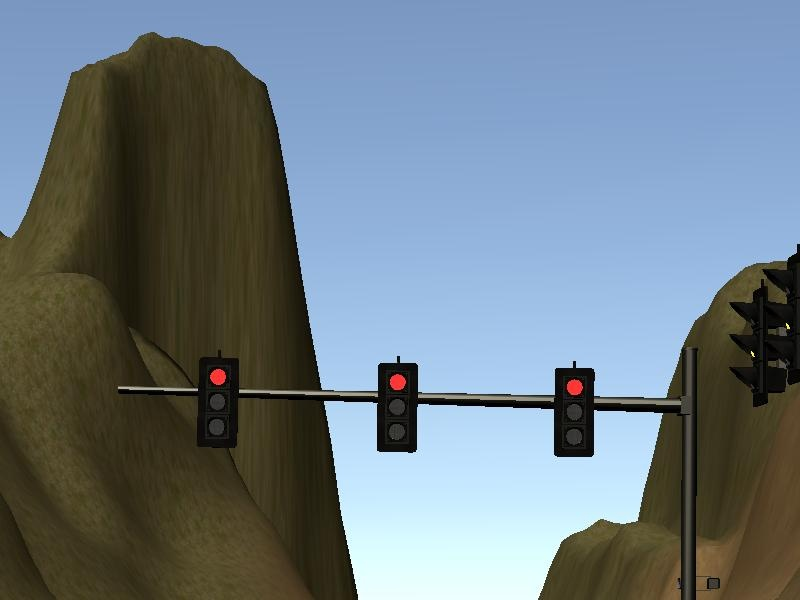RED: (196, 358, 238, 445), (375, 364, 417, 451), (551, 369, 593, 456)
